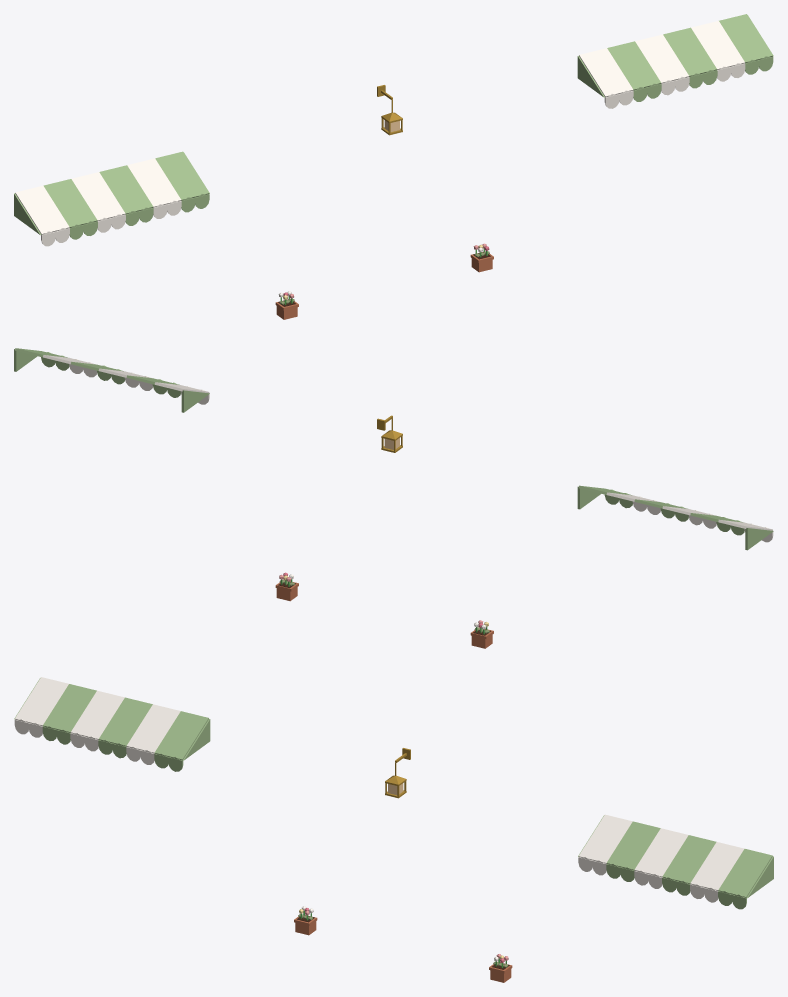
The model's file is CatCafe_Plot_ThemeGarden_52x40.glb.
3 renders of one model, top to bottom at view 1: azimuth 30°, elevation 25°; view 2: azimuth 150°, elevation 25°; view 3: azimuth 330°, elevation 25°, orthographic.
Parts seen in each view (by area): view 1: CatCafe_Plot_ThemeGarden_52x40_Awning, CatCafe_Plot_ThemeGarden_52x40; view 2: CatCafe_Plot_ThemeGarden_52x40_Awning, CatCafe_Plot_ThemeGarden_52x40; view 3: CatCafe_Plot_ThemeGarden_52x40_Awning, CatCafe_Plot_ThemeGarden_52x40.
Boxes of the visible parts, x1,y1,x2,y2 form: CatCafe_Plot_ThemeGarden_52x40_Awning: (14, 14, 773, 246); CatCafe_Plot_ThemeGarden_52x40: (275, 85, 493, 319); CatCafe_Plot_ThemeGarden_52x40_Awning: (14, 348, 773, 550); CatCafe_Plot_ThemeGarden_52x40: (275, 415, 493, 648); CatCafe_Plot_ThemeGarden_52x40_Awning: (14, 677, 773, 909); CatCafe_Plot_ThemeGarden_52x40: (294, 748, 512, 982).
Bounding box in the file's own units: 48.15 × 12.75 × 3.09.
1 material, 1 textured.
